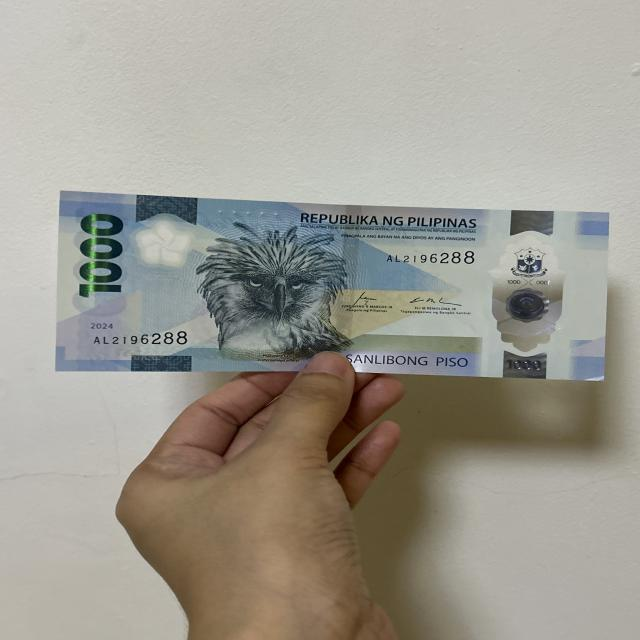clear_window: (488, 228, 573, 362)
eagle: (188, 222, 358, 364)
sampaguita: (131, 217, 200, 269)
serial_number: (376, 237, 482, 275), (80, 324, 196, 350)
